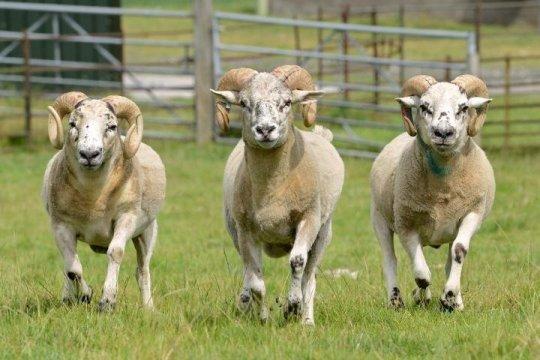sheep: (199, 58, 350, 335), (359, 59, 497, 319), (27, 82, 179, 306)
